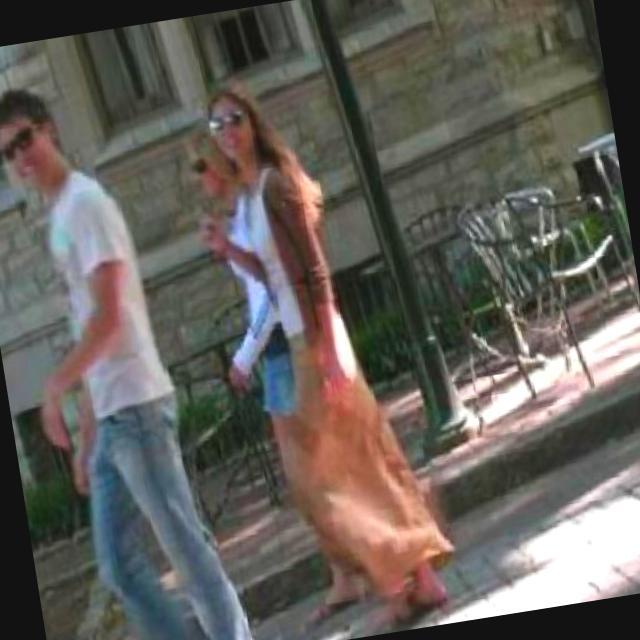Person: (0, 53, 269, 640), (196, 67, 458, 640), (183, 115, 367, 632)
